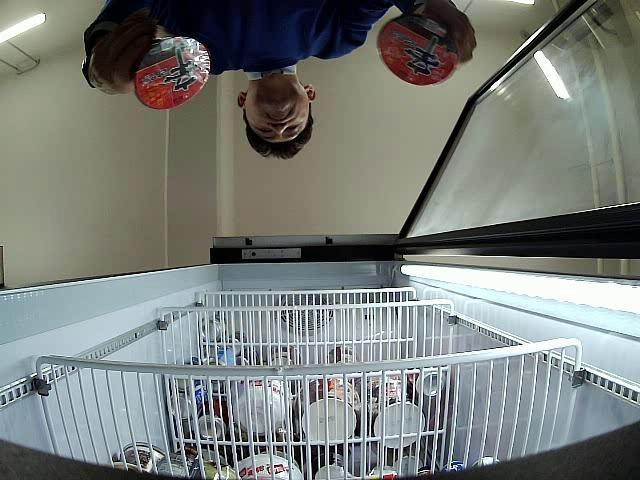02_shinRamen_S: (377, 14, 458, 86), (134, 36, 210, 112)
